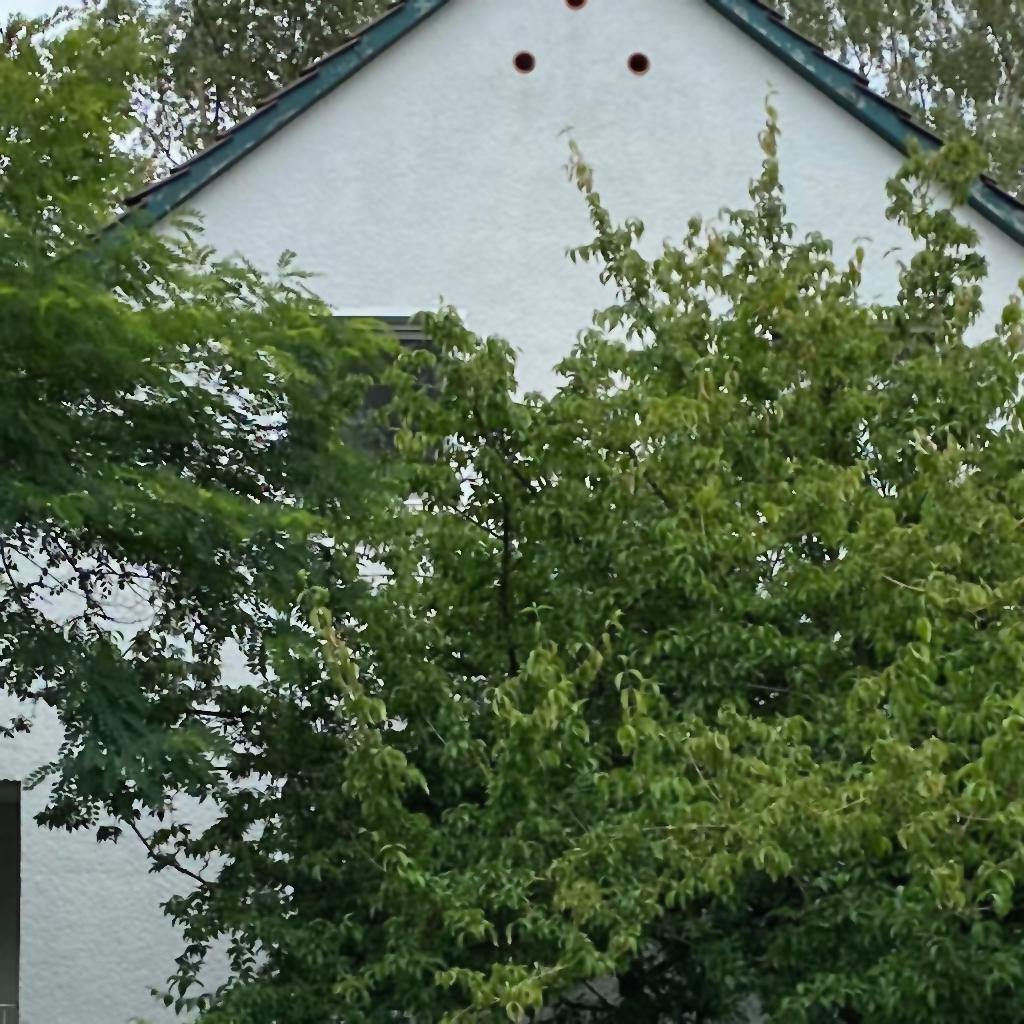tree: (136, 87, 1023, 1023), (1, 14, 621, 843), (1, 1, 427, 1023), (83, 1, 1024, 205)
